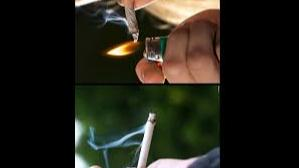Cigarette: (135, 111, 157, 168), (124, 0, 139, 41)
